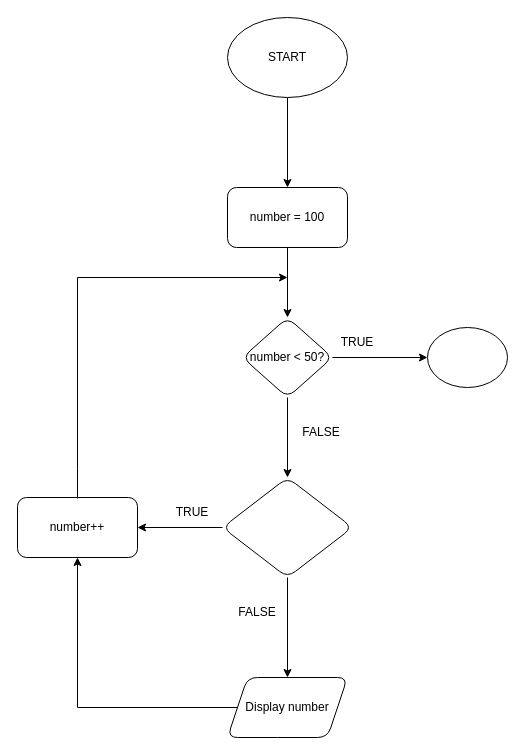
This 525x755 diagram has some shape labels left out. The centre of each missing label's shape, as x and y in pixels:
"number%2==0" belongs at pixel 287 527.
"STOP" belongs at pixel 467 357.
